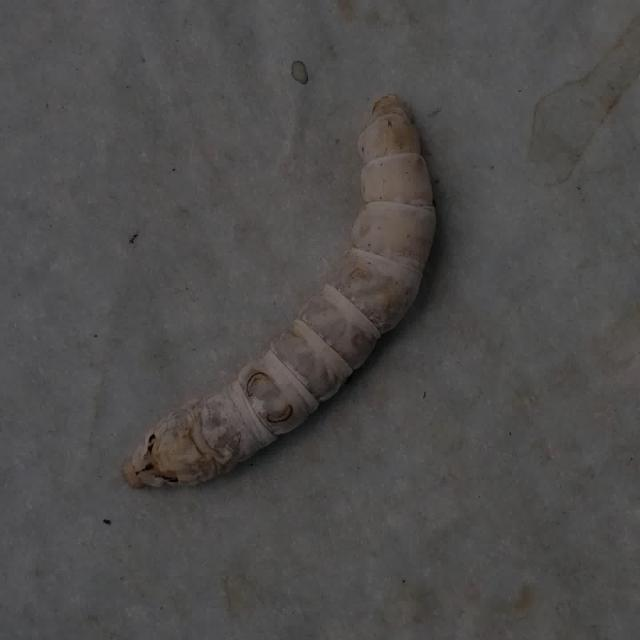Grasserie: (120, 85, 450, 498)
